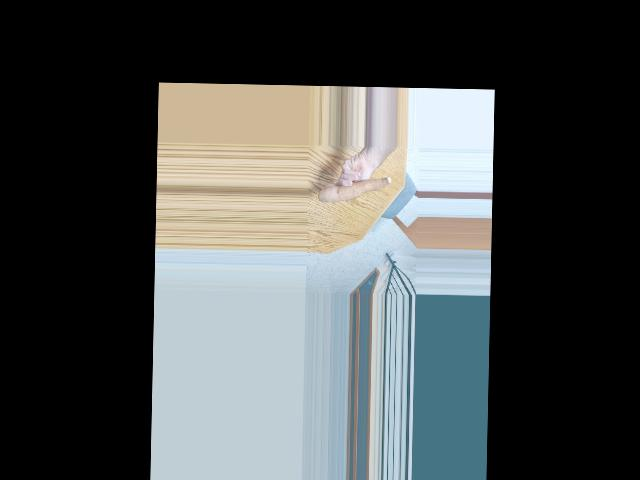sweet_potato: (320, 172, 392, 206)
